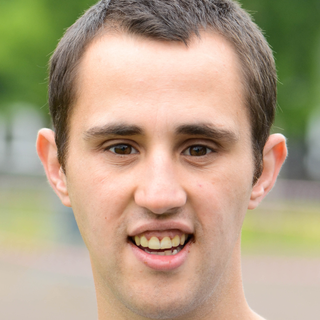eye: (97, 136, 145, 163), (176, 138, 224, 164)
